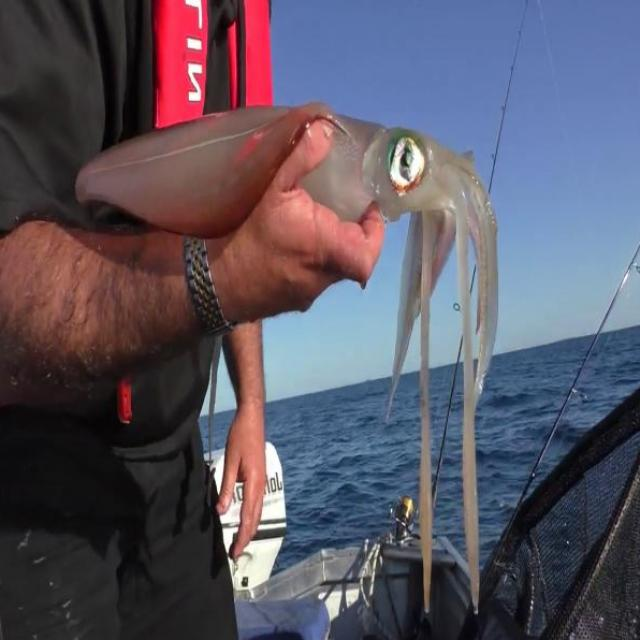SQUID: (63, 84, 530, 640)
